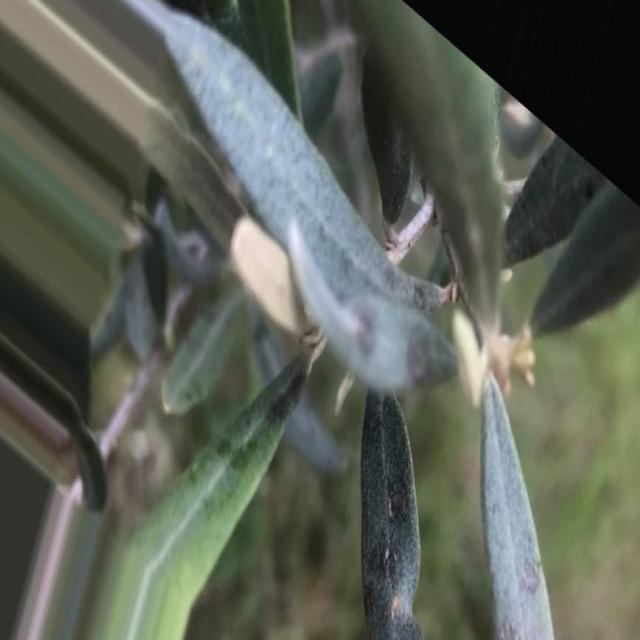OlivePeacockSpot: (148, 350, 314, 586), (299, 266, 456, 378), (362, 404, 424, 638), (482, 378, 531, 638)
